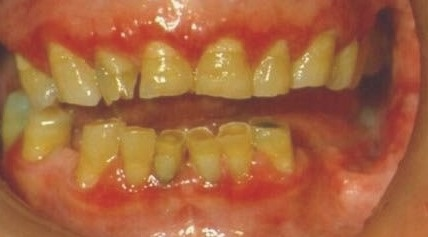Gingivitis: (99, 173, 127, 207)
